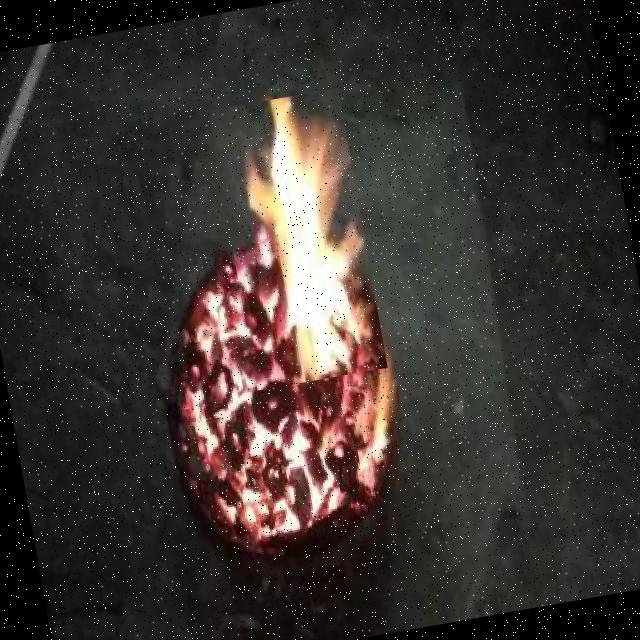fire: (208, 87, 387, 390)
